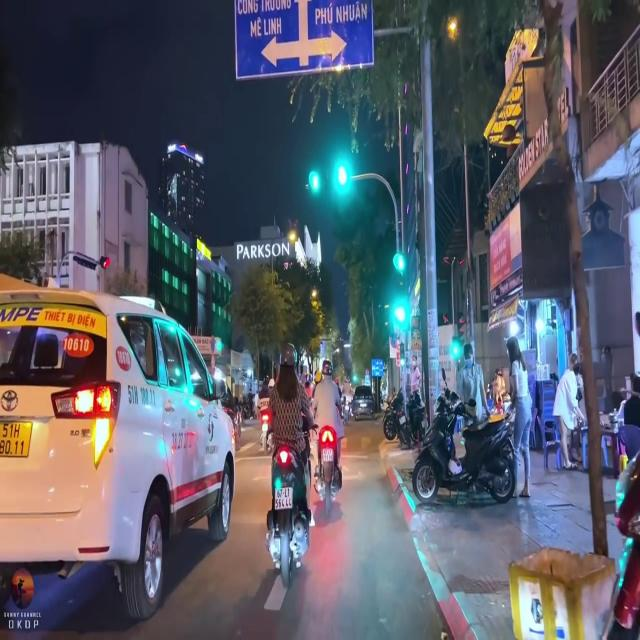bien_trang: (270, 480, 293, 514), (320, 444, 336, 468)
bien_vang: (0, 411, 35, 465)
